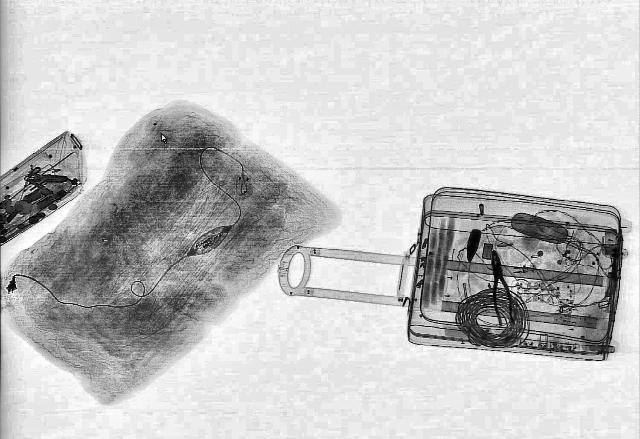Pliers: (484, 251, 518, 327)
